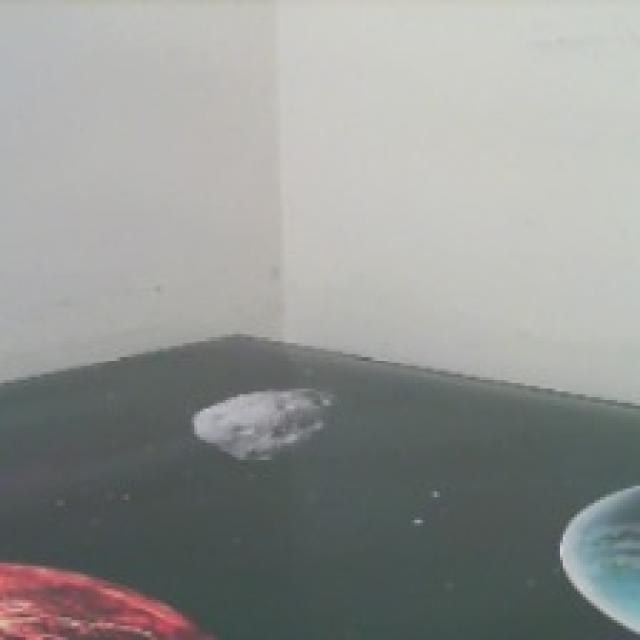Asteroid: (192, 381, 340, 462)
Earth: (557, 474, 637, 640)
Sun: (0, 557, 214, 640)
